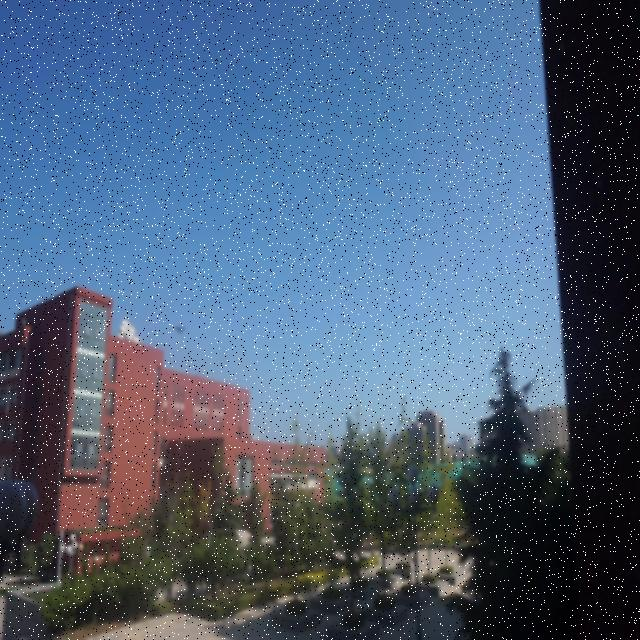UAV: (173, 326, 186, 335)
